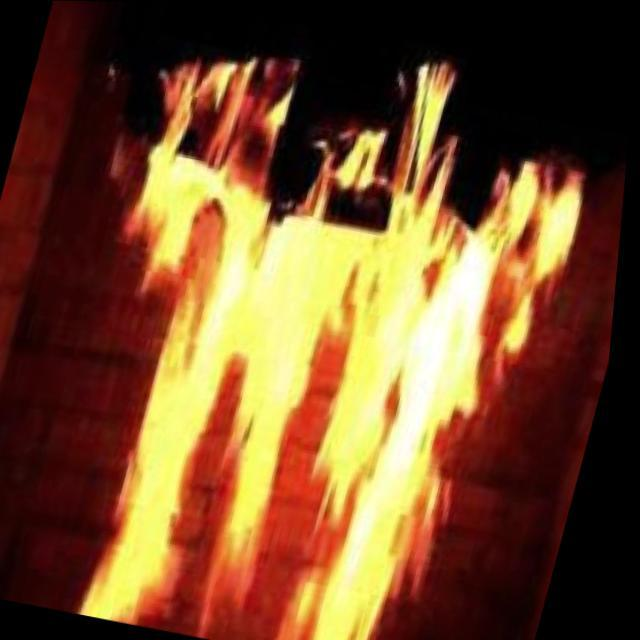fire: (99, 104, 584, 632)
